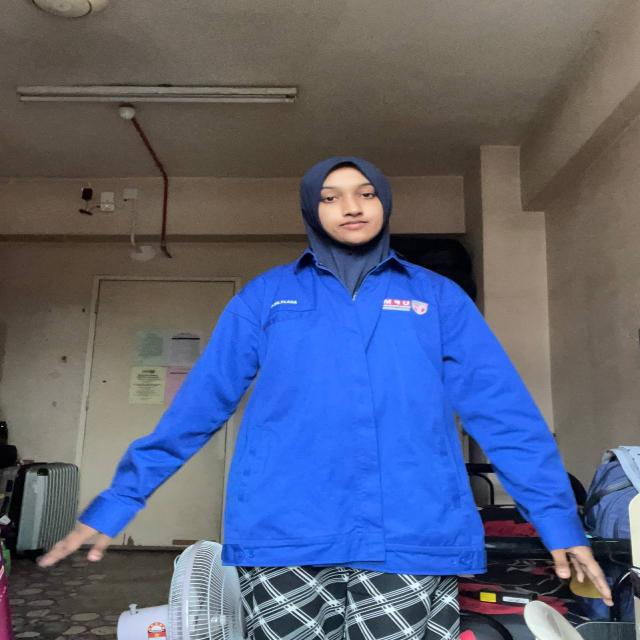person_with_labcoat: (39, 158, 611, 640)
